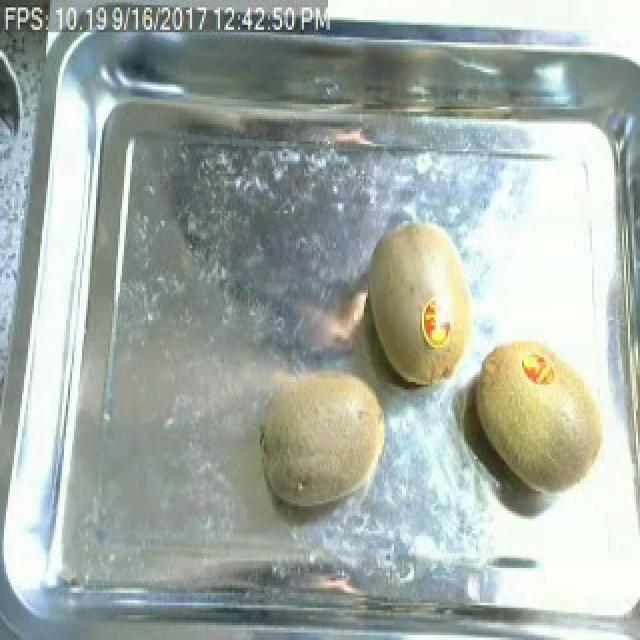Fruit: (464, 330, 618, 503), (250, 352, 394, 518), (358, 211, 486, 397)
